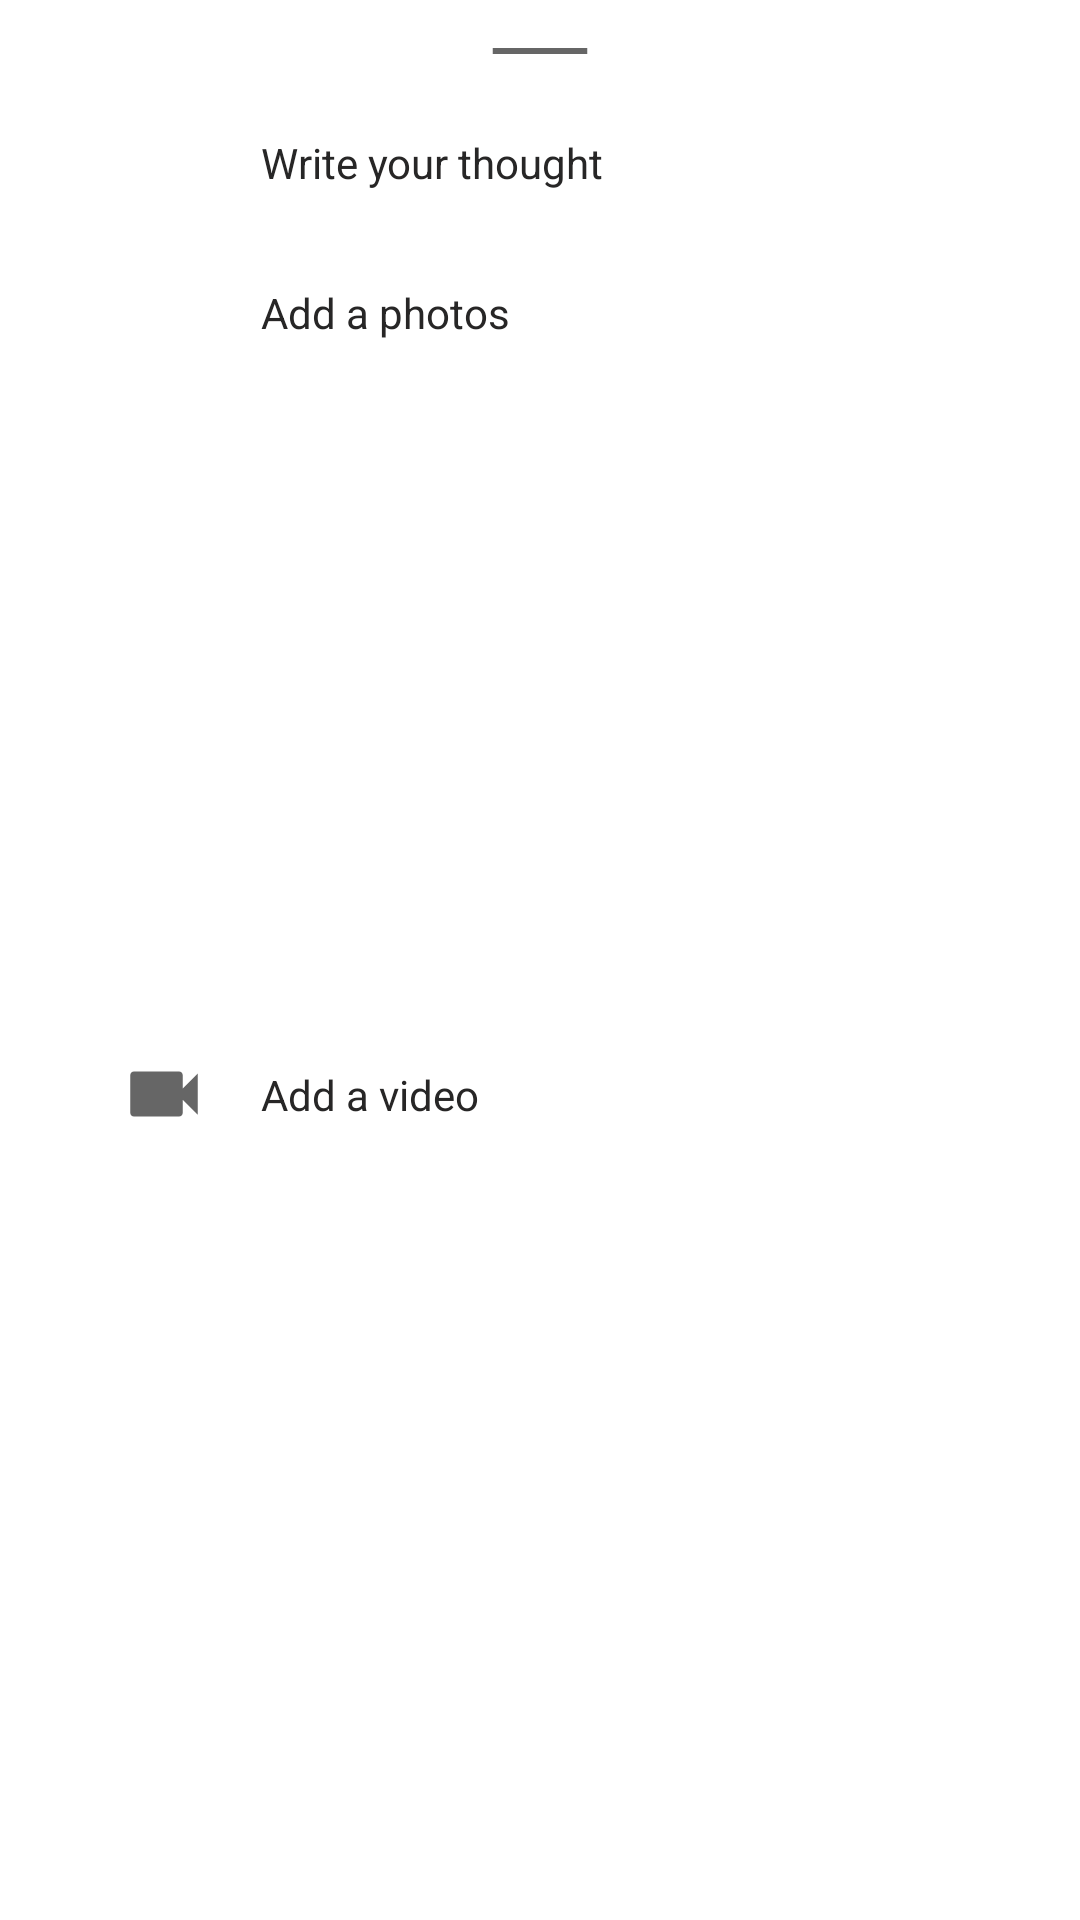

Point at icon controls on the screen. Image size 1080 x 1920, points as point (x, y).
videocam: point (164, 1094)
